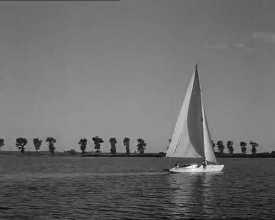fanchuan: (161, 60, 240, 180)
